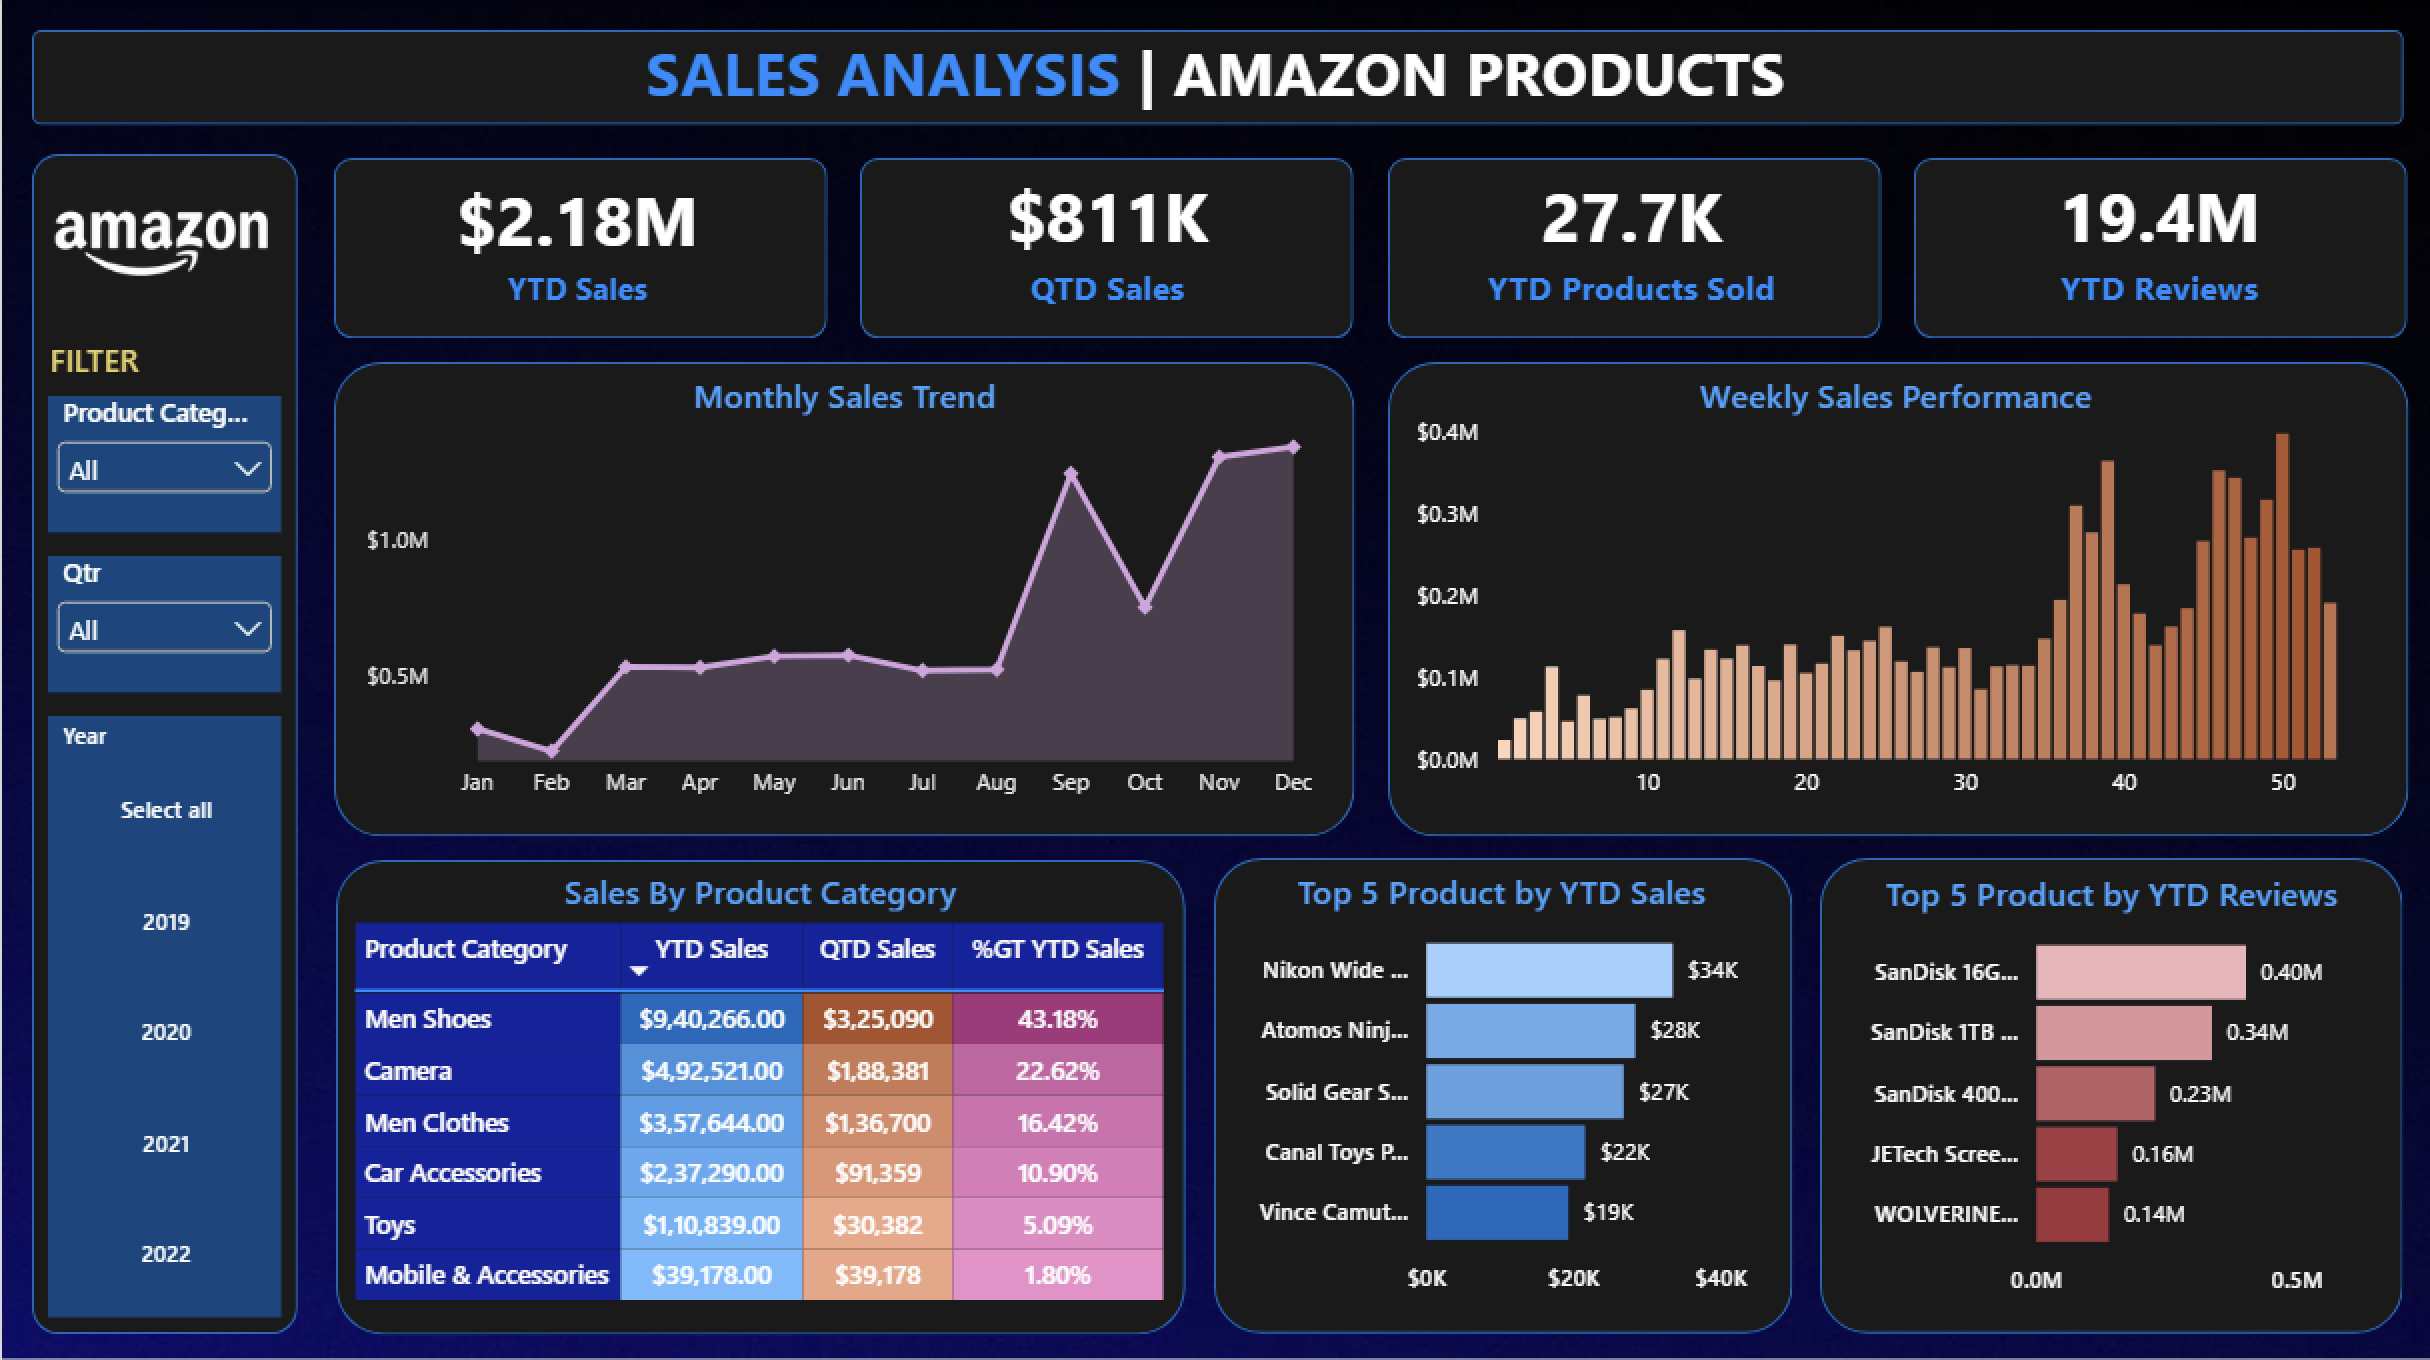

This screenshot's page, from the dashboard's own definition file:
{"tool":"powerbi","page":{"name":"Page 1","canvas":[1280,720],"ordinal":0},"visuals":[{"type":"shape","box":[15.4,16.8,1250,50],"z":0},{"type":"shape","box":[174.6,84.3,260,95],"z":0,"group":"g1"},{"type":"textbox","box":[334,16.8,610.7,50.3],"z":1000},{"type":"cardVisual","fields":{"Data":["Amazon_Data.YTD Sales"]},"box":[173.8,85.9,259.9,95],"z":1000,"group":"g1"},{"type":"shape","box":[15.4,82.4,140,622],"z":2000},{"type":"shape","box":[1007.6,84.3,260,95],"z":2000,"group":"g1"},{"type":"group","id":"g1","title":"Group 1","box":[173.8,84.3,1093.8,96.6],"z":3000},{"type":"shape","box":[729.9,84.3,260,95],"z":3000,"group":"g1"},{"type":"shape","box":[452.2,84.3,260,95],"z":4000,"group":"g1"},{"type":"shape","box":[174.5,191.6,538,250.1],"z":4000},{"type":"cardVisual","fields":{"Data":["Amazon_Data.QTD Sales"]},"box":[452.9,84.3,259.9,95],"z":5000,"group":"g1"},{"type":"areaChart","title":"Sales by Month","fields":{"Category":["Date Table.Month Name"],"Y":["Sum(Amazon_Data.Price(Dollar))"]},"box":[175.9,191.6,536.3,250.3],"z":5000},{"type":"cardVisual","fields":{"Data":["Amazon_Data.YTD Products Sold"]},"box":[729.5,84.3,259.9,95],"z":6000,"group":"g1"},{"type":"shape","box":[730.8,191.6,538,250.1],"z":6000},{"type":"cardVisual","fields":{"Data":["Amazon_Data.YTD Reviews"]},"box":[1007.6,84.3,259.9,95],"z":7000,"group":"g1"},{"type":"columnChart","title":"Sales by Week","fields":{"Category":["Date Table.Week"],"Y":["Sum(Amazon_Data.Price(Dollar))"]},"box":[729.4,191.6,537.7,250.3],"z":7000},{"type":"shape","box":[175.9,454.8,447.6,250.3],"z":8000},{"type":"pivotTable","title":"Sales By Product Category","fields":{"Rows":["Amazon_Data.Product Category"],"Values":["Amazon_Data.YTD Sales","Amazon_Data.QTD Sales","Divide(Amazon_Data.YTD Sales, ScopedEval(Amazon_Data.YTD Sales, []))"]},"box":[175.9,453.4,447.6,250.3],"z":9000},{"type":"shape","box":[958.2,453.2,307.3,250.7],"z":10000},{"type":"shape","box":[638.8,453.2,304.9,250.7],"z":11000},{"type":"clusteredBarChart","title":"Top 5 Product by YTD Sales","fields":{"Category":["Amazon_Data.Product Description"],"Y":["Amazon_Data.YTD Sales"]},"box":[635.2,453.2,309.8,250.7],"z":12000},{"type":"clusteredBarChart","title":"Top 5 Product by YTD Reviews","fields":{"Category":["Amazon_Data.Product Description"],"Y":["Amazon_Data.YTD Reviews"]},"box":[957,454.4,309.8,250.7],"z":13000},{"type":"slicer","fields":{"Values":["Amazon_Data.Product Category"]},"box":[24.3,210.2,123,71.5],"z":14000,"group":"g2"},{"type":"slicer","fields":{"Values":["Date Table.Qtr"]},"box":[24.3,294.6,123,71.5],"z":15000,"group":"g2"},{"type":"slicer","fields":{"Values":["Date Table.Year"]},"box":[24.3,379,123,317.5],"z":16000,"group":"g2"},{"type":"image","box":[21.5,94.4,128.7,74.4],"z":17000},{"type":"group","id":"g2","title":"Group 2","box":[24.3,210.2,123,486.3],"z":17001},{"type":"textbox","box":[24.8,180.6,82.6,29.5],"z":17002}]}

Visuals, with their boxes in screenshot pixels (x1, y1, x2, y2), scaled from the page's 1280x720 canvas onto the 2430x1360 screenshot:
shape: locate(29, 32, 2402, 126)
shape: locate(331, 159, 825, 339)
textbox: locate(634, 32, 1793, 127)
cardVisual - Amazon_Data.YTD Sales: locate(330, 162, 823, 342)
shape: locate(29, 156, 295, 1331)
shape: locate(1913, 159, 2406, 339)
"Group 1" group: locate(330, 159, 2406, 342)
shape: locate(1386, 159, 1879, 339)
shape: locate(858, 159, 1352, 339)
shape: locate(331, 362, 1353, 834)
cardVisual - Amazon_Data.QTD Sales: locate(860, 159, 1353, 339)
"Sales by Month" areaChart: locate(334, 362, 1352, 835)
cardVisual - Amazon_Data.YTD Products Sold: locate(1385, 159, 1878, 339)
shape: locate(1387, 362, 2409, 834)
cardVisual - Amazon_Data.YTD Reviews: locate(1913, 159, 2406, 339)
"Sales by Week" columnChart: locate(1385, 362, 2406, 835)
shape: locate(334, 859, 1184, 1332)
"Sales By Product Category" pivotTable: locate(334, 856, 1184, 1329)
shape: locate(1819, 856, 2402, 1330)
shape: locate(1213, 856, 1792, 1330)
"Top 5 Product by YTD Sales" clusteredBarChart: locate(1206, 856, 1794, 1330)
"Top 5 Product by YTD Reviews" clusteredBarChart: locate(1817, 858, 2405, 1332)
slicer - Amazon_Data.Product Category: locate(46, 397, 280, 532)
slicer - Date Table.Qtr: locate(46, 556, 280, 692)
slicer - Date Table.Year: locate(46, 716, 280, 1316)
image: locate(41, 178, 285, 319)
"Group 2" group: locate(46, 397, 280, 1316)
textbox: locate(47, 341, 204, 397)
